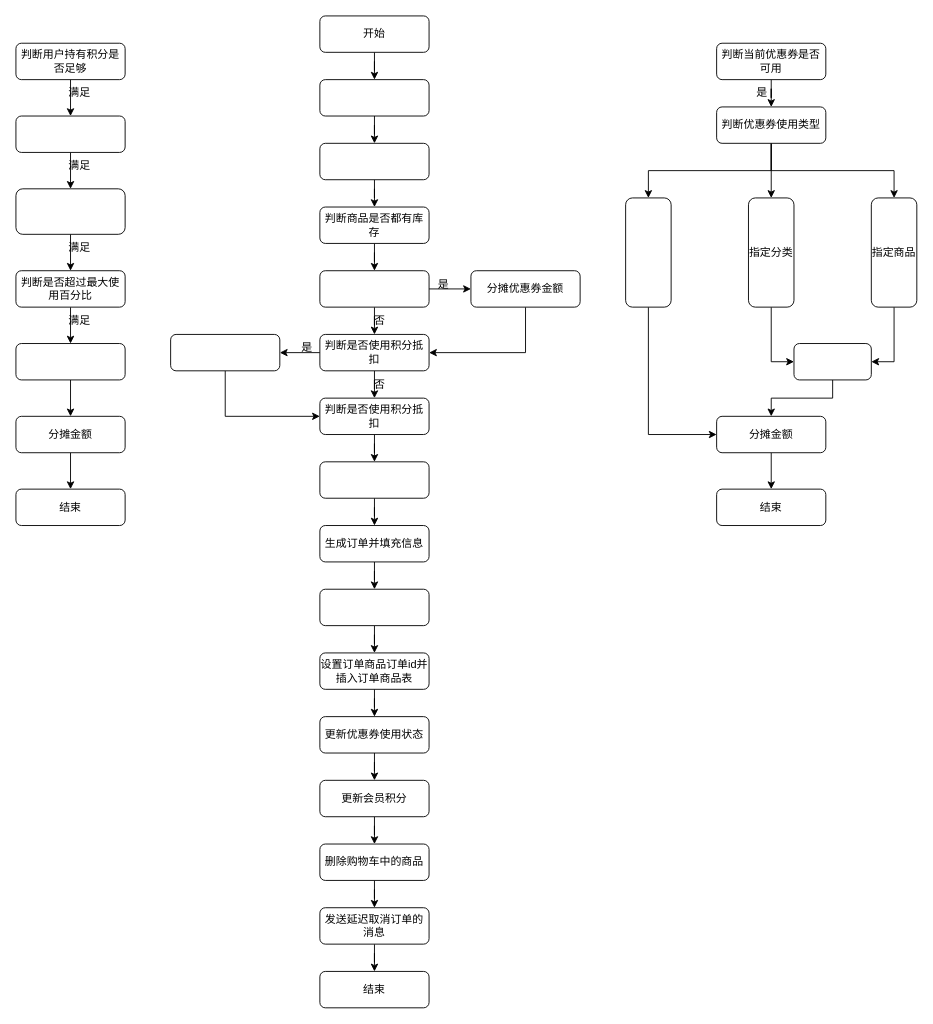
This 933x1024 diagram has some shape labels left out. Here are the shapes that lost their labels. From the top down, the centre of each, then its label:
At pixel 374 97: "计算商品促销信息".
At pixel 70 133: "判断使用积分数是否小于最小使用单位".
At pixel 374 161: "转换为订单商品并填充信息".
At pixel 70 211: "判断是否使用了优惠券并且可与优惠券一起使用".
At pixel 648 252: "全场通用".
At pixel 374 288: "判断是否使用优惠券".
At pixel 70 361: "计算积分抵扣总金额".
At pixel 225 352: "分摊积分抵扣金额".
At pixel 832 361: "过滤商品".
At pixel 374 479: "计算应付金额".
At pixel 374 607: "插入订单表".
